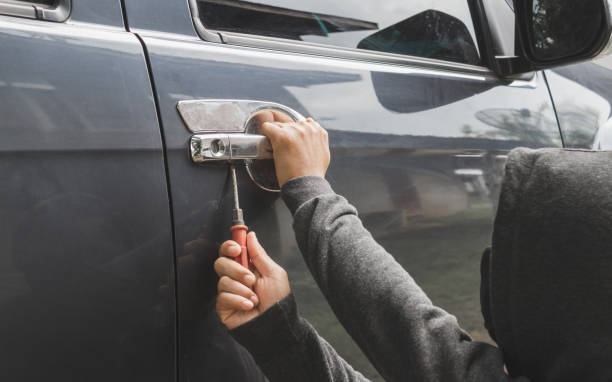screwdriver: (223, 159, 259, 314)
